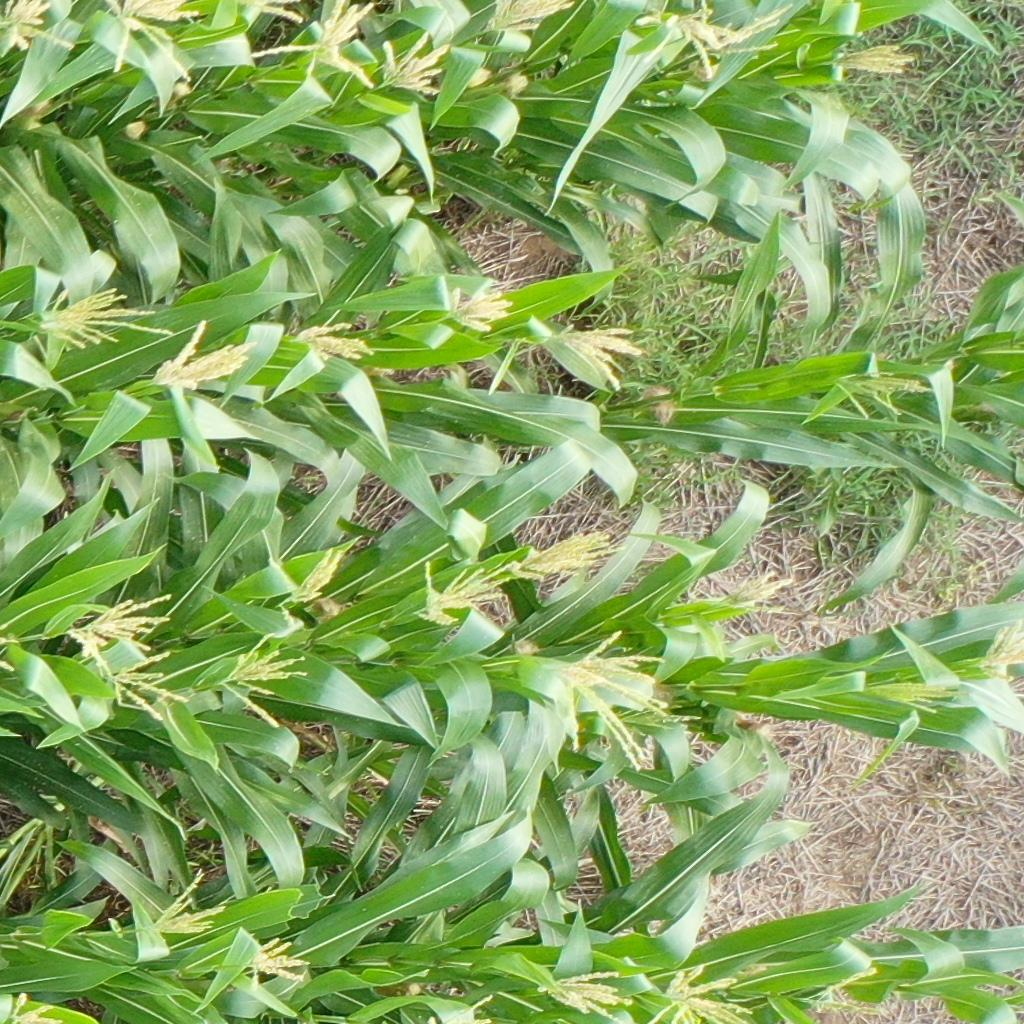Tassel: (556, 630, 681, 770), (248, 1, 383, 93), (34, 287, 173, 353), (635, 1, 742, 85), (222, 628, 308, 731), (146, 319, 261, 395), (68, 591, 173, 672), (541, 320, 650, 396), (104, 1, 201, 84), (411, 559, 514, 630), (643, 961, 752, 1024), (507, 530, 623, 588), (135, 867, 228, 938), (275, 543, 347, 629), (104, 650, 192, 720), (432, 272, 516, 338), (372, 35, 455, 100), (534, 970, 635, 1023), (834, 367, 939, 417), (800, 966, 890, 1024), (708, 4, 798, 60), (1, 1, 87, 57), (246, 934, 312, 998), (826, 38, 919, 79), (292, 318, 372, 365), (720, 570, 794, 616), (868, 679, 966, 712), (482, 1, 576, 35), (975, 622, 1024, 687), (420, 991, 494, 1024), (7, 992, 67, 1024), (246, 1, 312, 29)
